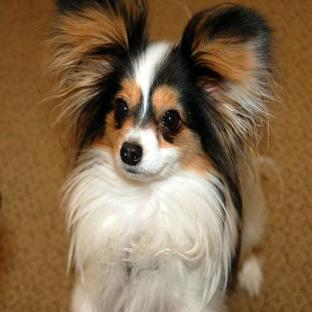Animal: (52, 0, 274, 311)
